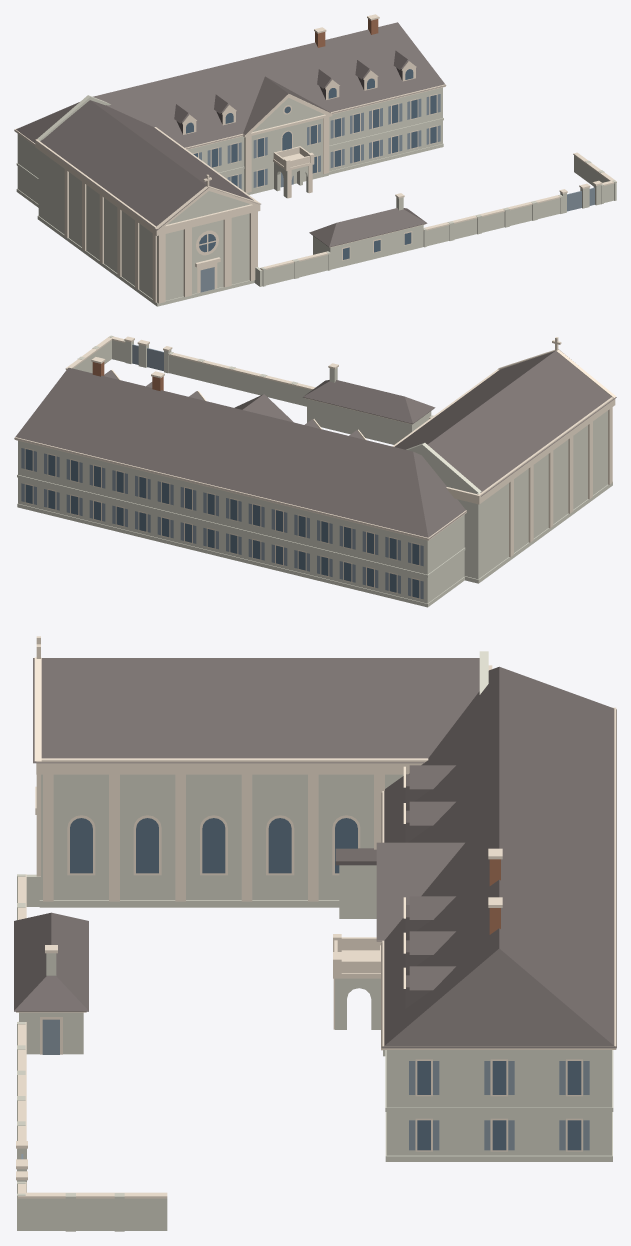
File: nola-old-ursuline-convent.glb
3 views of the same model, one above another, from view 1: azimuth 30°, elevation 25°; view 2: azimuth 150°, elevation 25°; view 3: azimuth 270°, elevation 25° (orthographic). The views are drawn at different scales.
Parts seen in each view (by area): view 1: Old Ursuline Convent; view 2: Old Ursuline Convent; view 3: Old Ursuline Convent.
Boxes of the visible parts, x1,y1,x2,y2 form: Old Ursuline Convent: [14, 14, 616, 306]; Old Ursuline Convent: [14, 335, 616, 607]; Old Ursuline Convent: [14, 636, 616, 1231].
Size of the model in its own units: 68.77 by 17.2 by 41.9.
